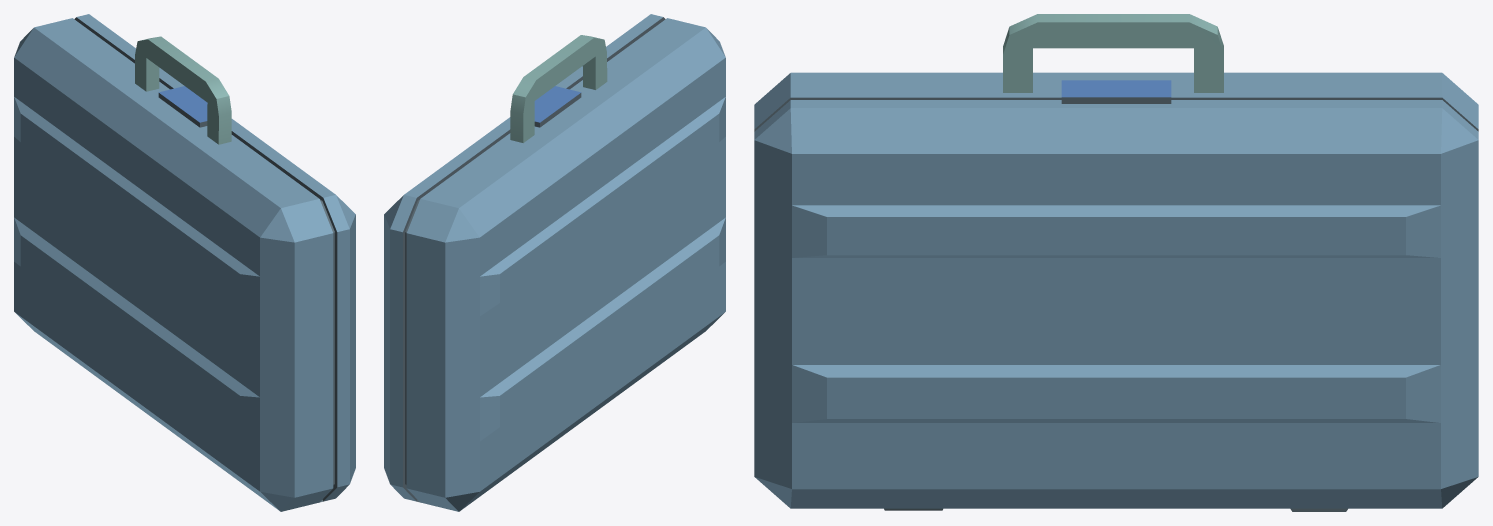
Rendered from Briefcase_Metal.fbx.
3 renders of one model, left to right at view 1: azimuth 30°, elevation 25°; view 2: azimuth 150°, elevation 25°; view 3: azimuth 270°, elevation 25°, orthographic. The views are drawn at different scales.
Parts seen in each view (by area): view 1: Briefcase_Metal; view 2: Briefcase_Metal; view 3: Briefcase_Metal.
Part boxes in pixels (box(x1,y1,x2,y2)): Briefcase_Metal: box(14, 14, 355, 511); Briefcase_Metal: box(384, 14, 725, 511); Briefcase_Metal: box(754, 14, 1478, 511).
Bounding box in the file's own units: 18.13 × 58.13 × 79.01.
